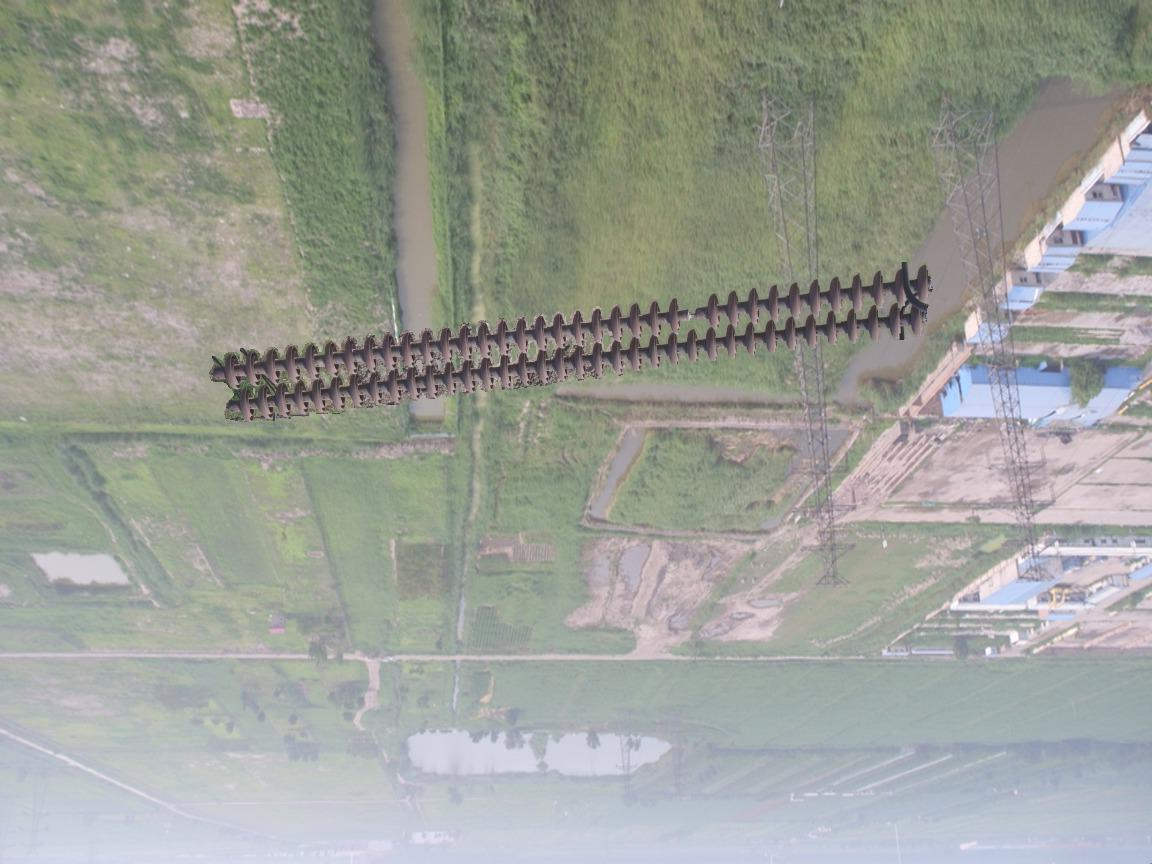insulator: (215, 255, 937, 427)
insulator_stringdrop: (665, 289, 723, 338)
